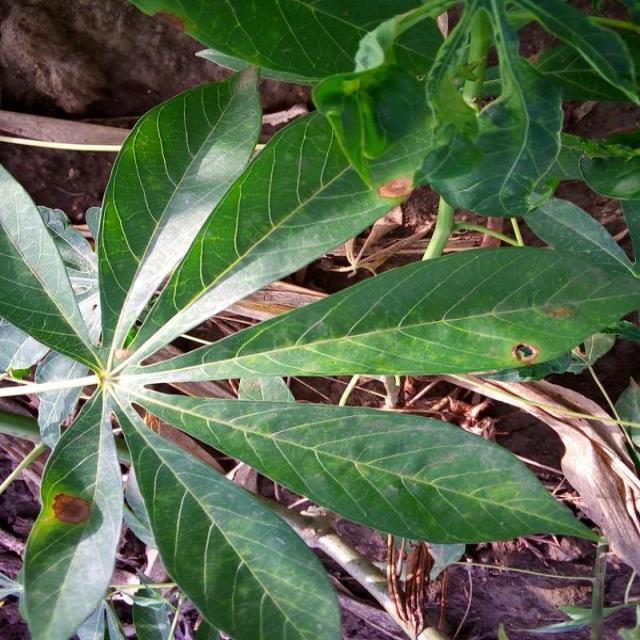cassava leaf: (2, 1, 638, 637), (122, 105, 414, 366), (132, 387, 606, 547), (117, 392, 344, 638), (96, 62, 265, 357), (18, 382, 124, 638)
